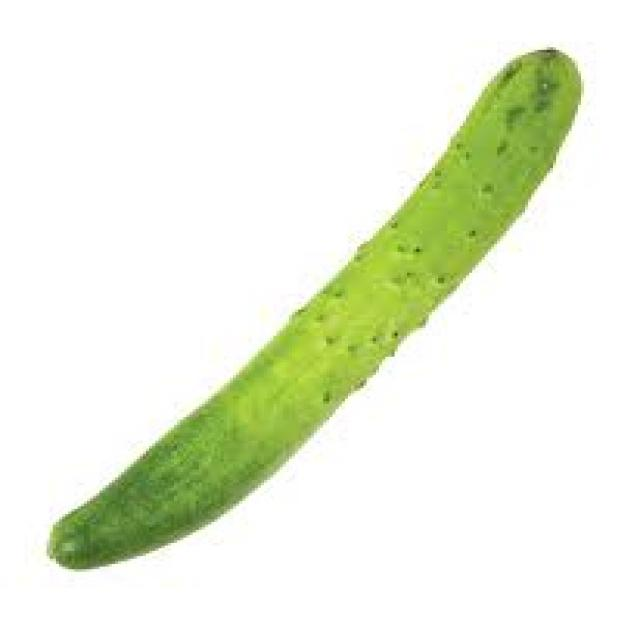cucumber: (38, 44, 596, 574)
